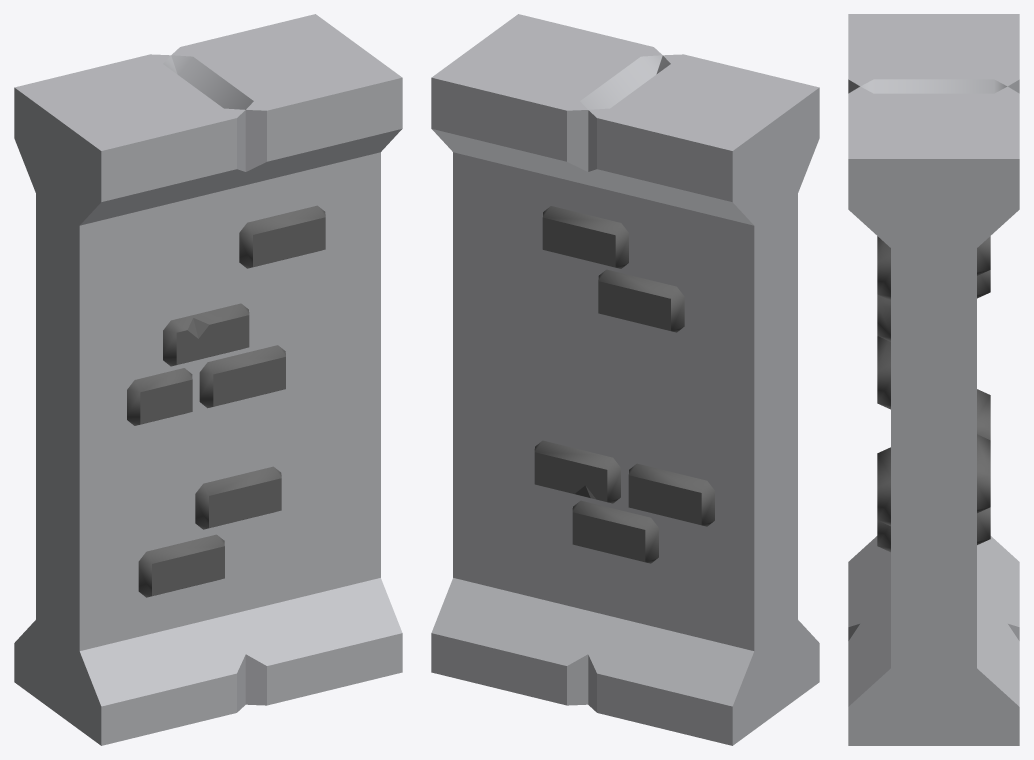
File: Wall_Half.fbx
The picture shows the model from 3 angles, left to right: view 1: azimuth 30°, elevation 25°; view 2: azimuth 150°, elevation 25°; view 3: azimuth 270°, elevation 25°; orthographic projection.
Parts seen in each view (by area): view 1: Wall_Half; view 2: Wall_Half; view 3: Wall_Half.
Part boxes in pixels (x1,y1,x2,y2): Wall_Half: [14, 14, 402, 745]; Wall_Half: [431, 14, 819, 745]; Wall_Half: [848, 14, 1019, 745].
Size of the model in its own units: 0.7361 by 1.39 by 0.3681.
Materials: 1 (1 with a texture image).
